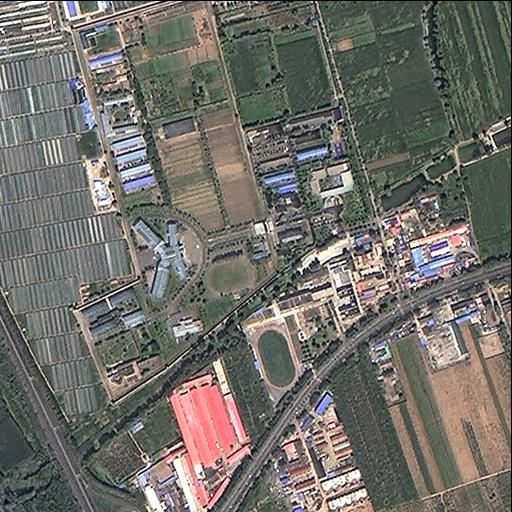school: (241, 251, 362, 397)
